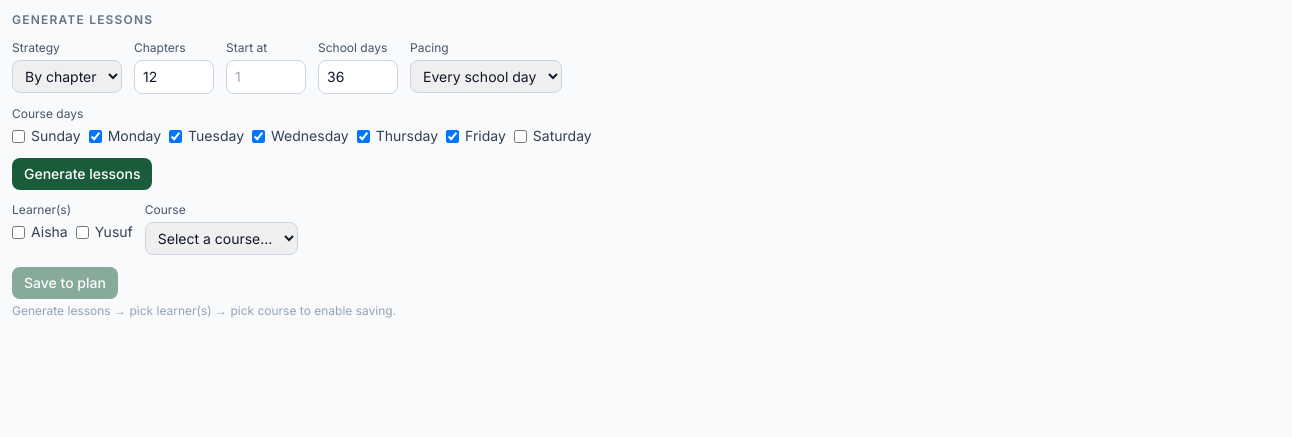
Test: LessonGenerationPanel — learner/course selectors › saves generated lessons to the planner when "Save to plan" is clicked
Step 1. Click the button with test id "generate-lessons-button" → point(82, 174), box [12,158,152,190]
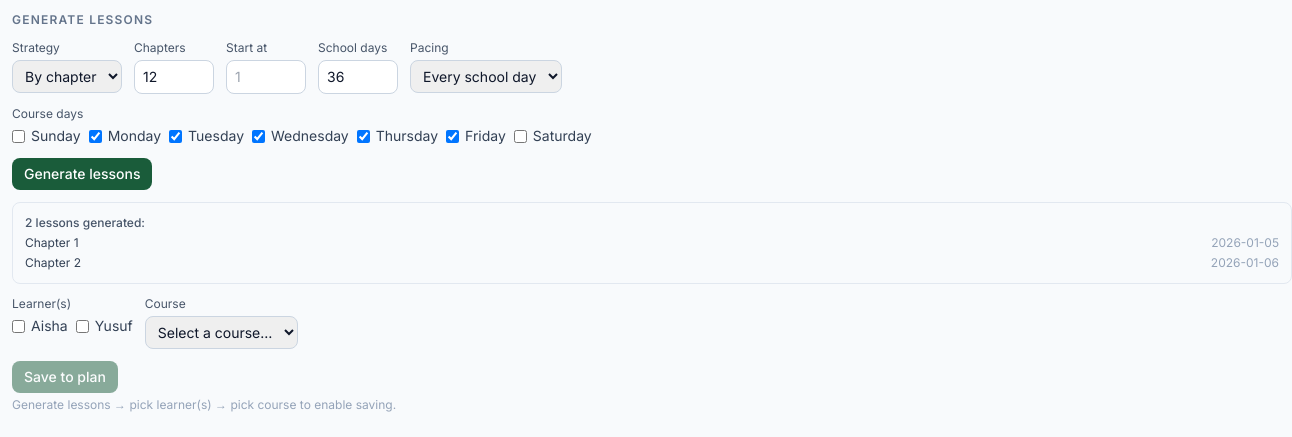
Expected: the text "2 lessons generated:" is shown, [25,215,145,230]
Step 2. Click the checkbox labelled "Aisha" → point(18, 326), box [12,320,25,332]
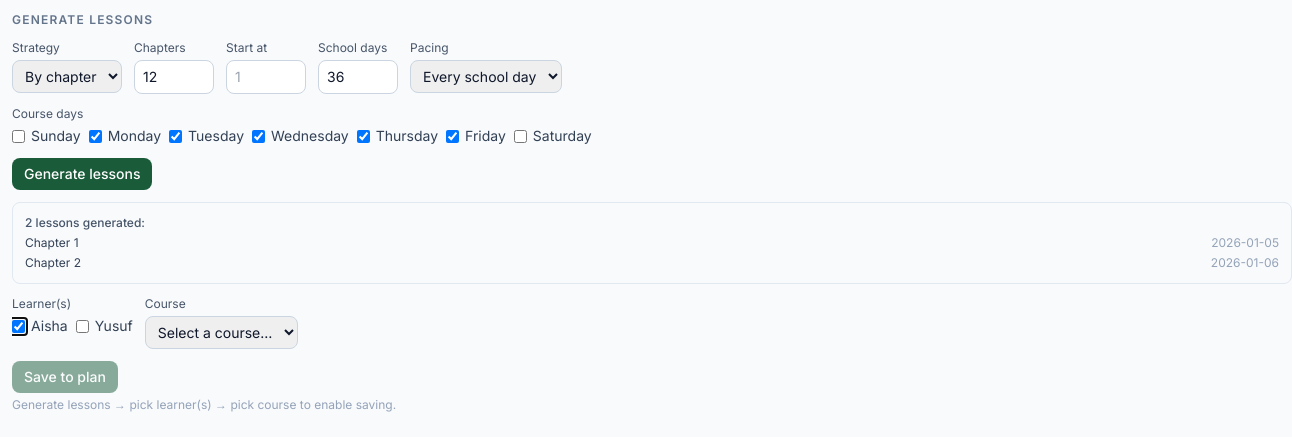
Step 3. Select "Math 7/6" in the dropdown with test id "generation-course-select" → point(221, 332), box [145,316,298,349]
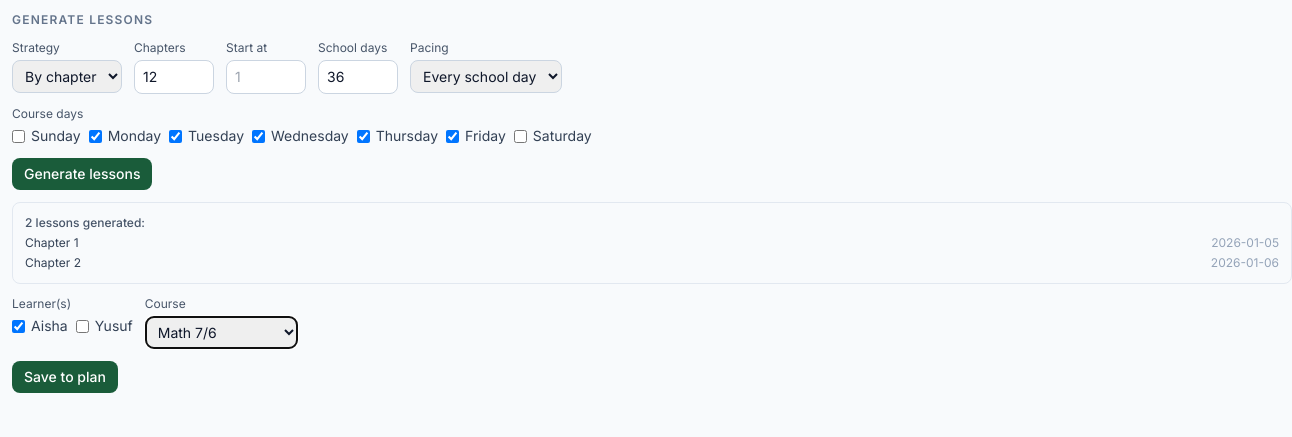
Expected: the button "Save to plan" is enabled
Step 4. Click the button "Save to plan" → point(65, 377), box [12,361,118,393]
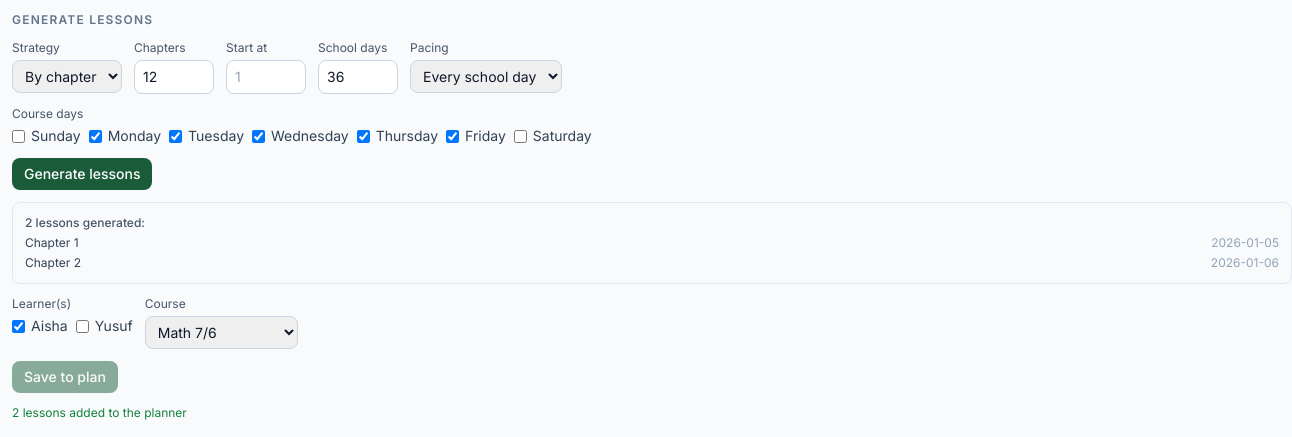
Expected: the text "2 lessons added to the planner" is shown, [12,405,187,420]
Expected: the button "Save to plan" is disabled, [12,361,118,393]
